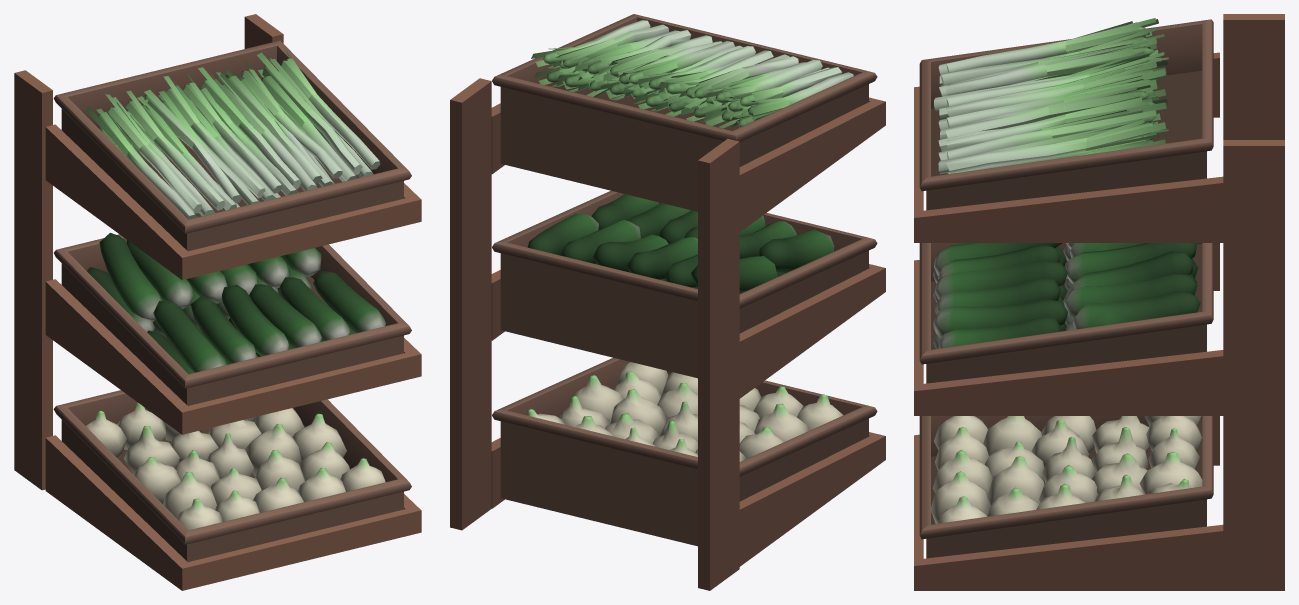
Rendered from consumables-vegetables-marketstand_v1.glb.
The picture shows the model from 3 angles, left to right: view 1: azimuth 30°, elevation 25°; view 2: azimuth 150°, elevation 25°; view 3: azimuth 270°, elevation 25°; orthographic projection. The views are drawn at different scales.
Visible parts, largest first — view 1: MarketStand_v1; view 2: MarketStand_v1; view 3: MarketStand_v1.
Part boxes in pixels (bbox=[...]): MarketStand_v1: bbox=[14, 14, 421, 590]; MarketStand_v1: bbox=[450, 14, 885, 590]; MarketStand_v1: bbox=[914, 14, 1284, 590].
Bounding box in the file's own units: 0.5684 × 0.9223 × 0.6749.
